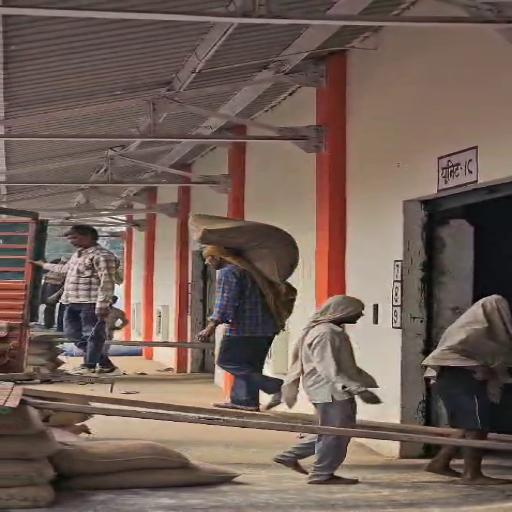bag: (184, 204, 304, 281)
